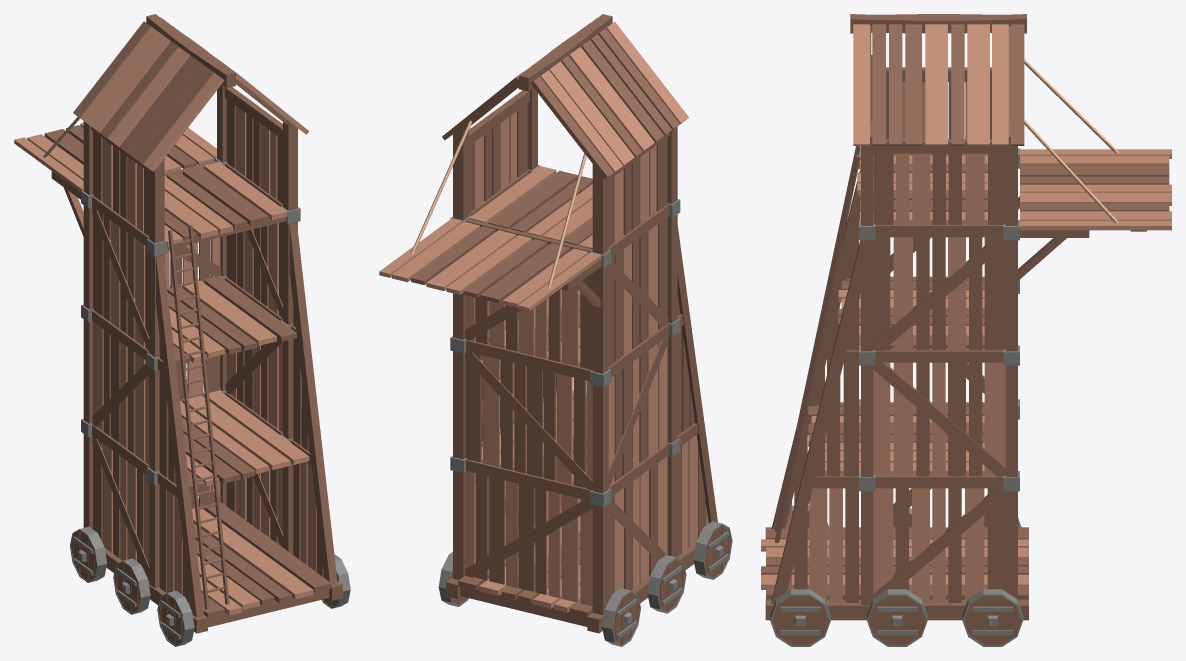
File: Seige Tower.fbx
3 views of the same model, side by side, from view 1: azimuth 30°, elevation 25°; view 2: azimuth 150°, elevation 25°; view 3: azimuth 270°, elevation 25° (orthographic). The views are drawn at different scales.
Parts seen in each view (by area): view 1: Seige Tower; view 2: Seige Tower; view 3: Seige Tower.
Boxes of the visible parts, x1,y1,x2,y2 form: Seige Tower: [14, 14, 350, 646]; Seige Tower: [379, 14, 732, 646]; Seige Tower: [761, 14, 1171, 646].
Bounding box in the file's own units: 551 × 1628 × 1034.
